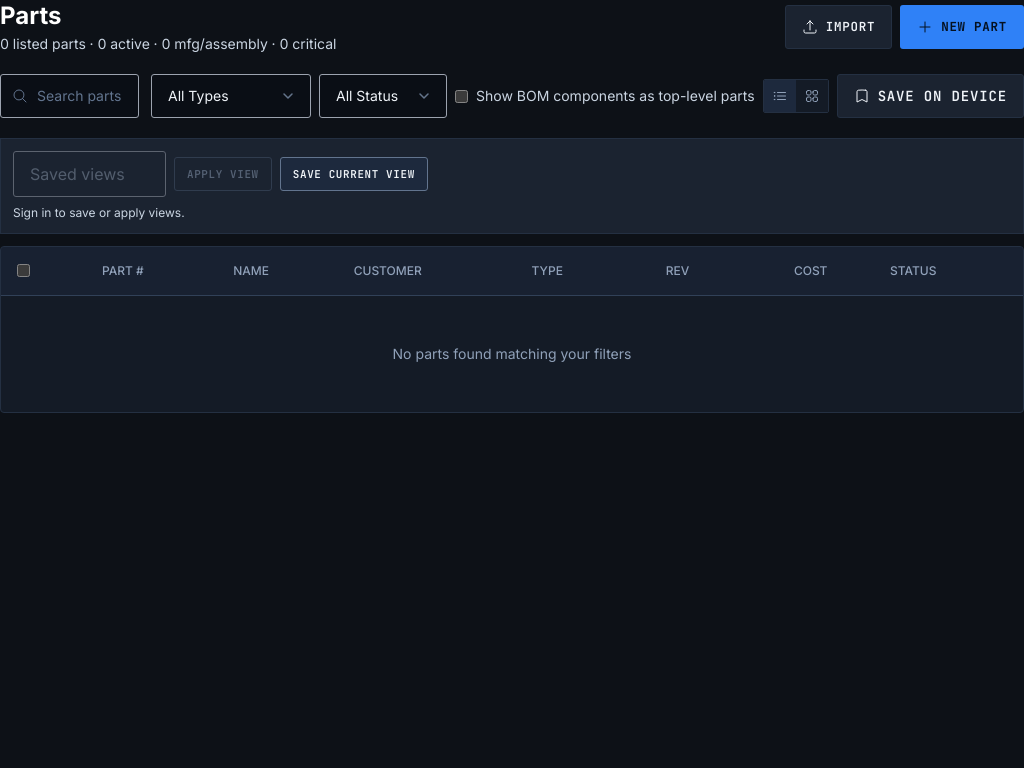
Scenario: PartsNew save-filter InputDialog › cancel closes the dialog and persists nothing
This screenshot has width=1024, height=768.
Step 1. Click the button "Save on device" → (930, 96), box left=837, top=74, right=1023, bottom=118
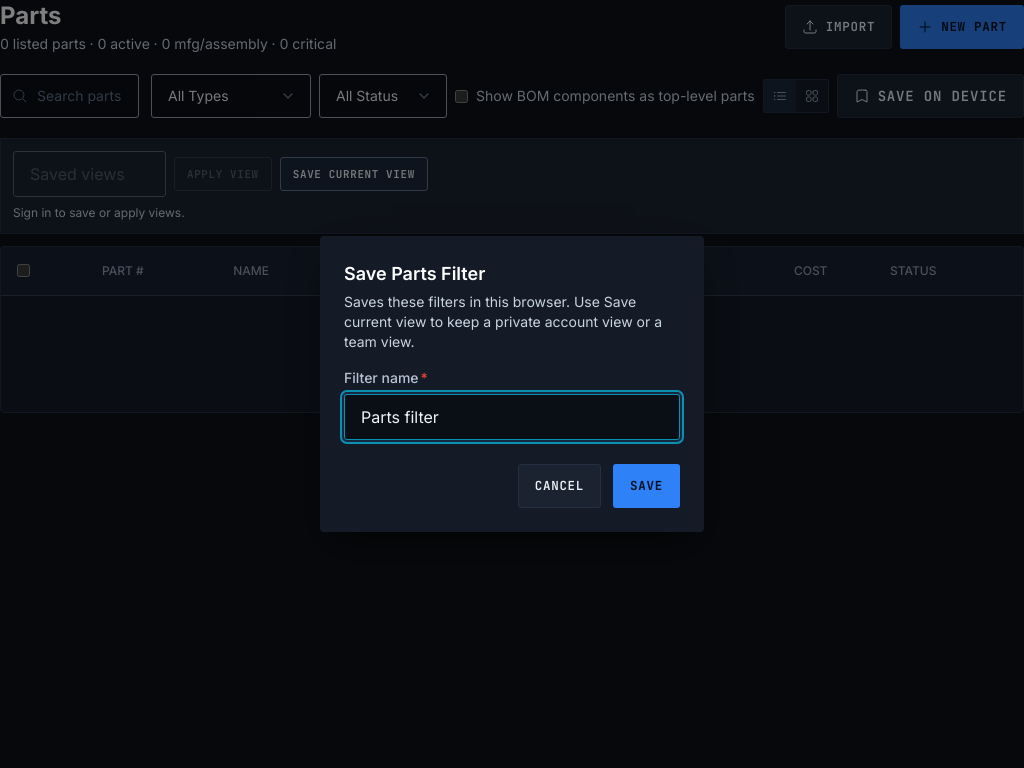
Step 2. Click the button "Cancel" → (559, 486), box left=518, top=464, right=601, bottom=508
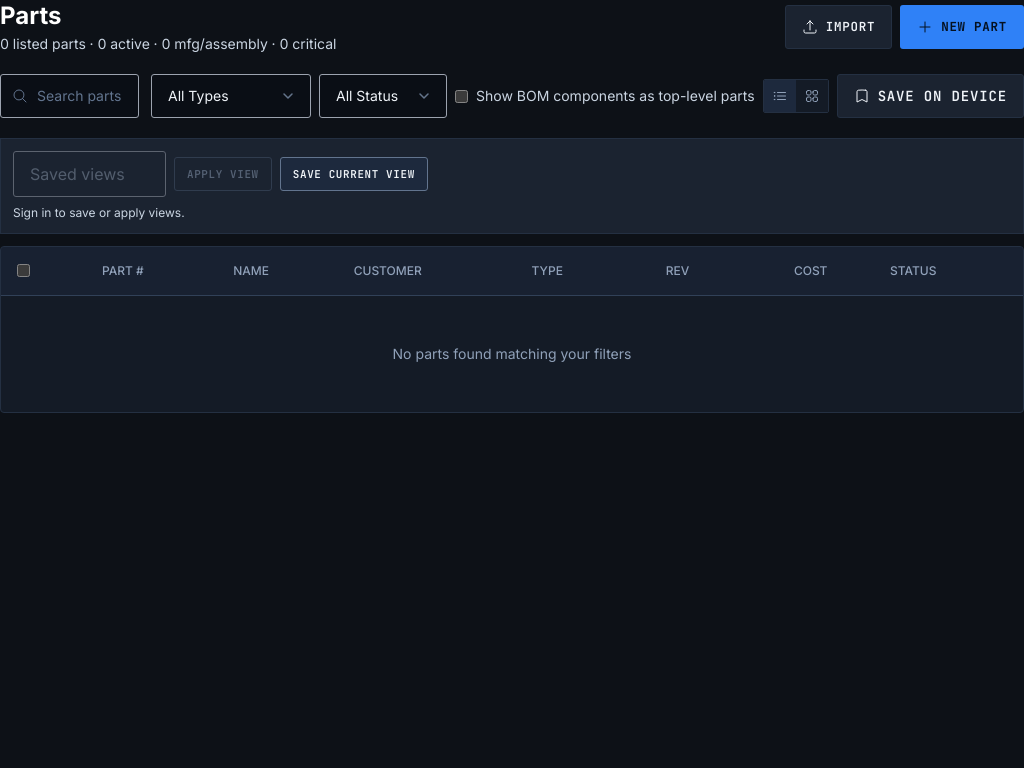
Expected: the dialog is gone
